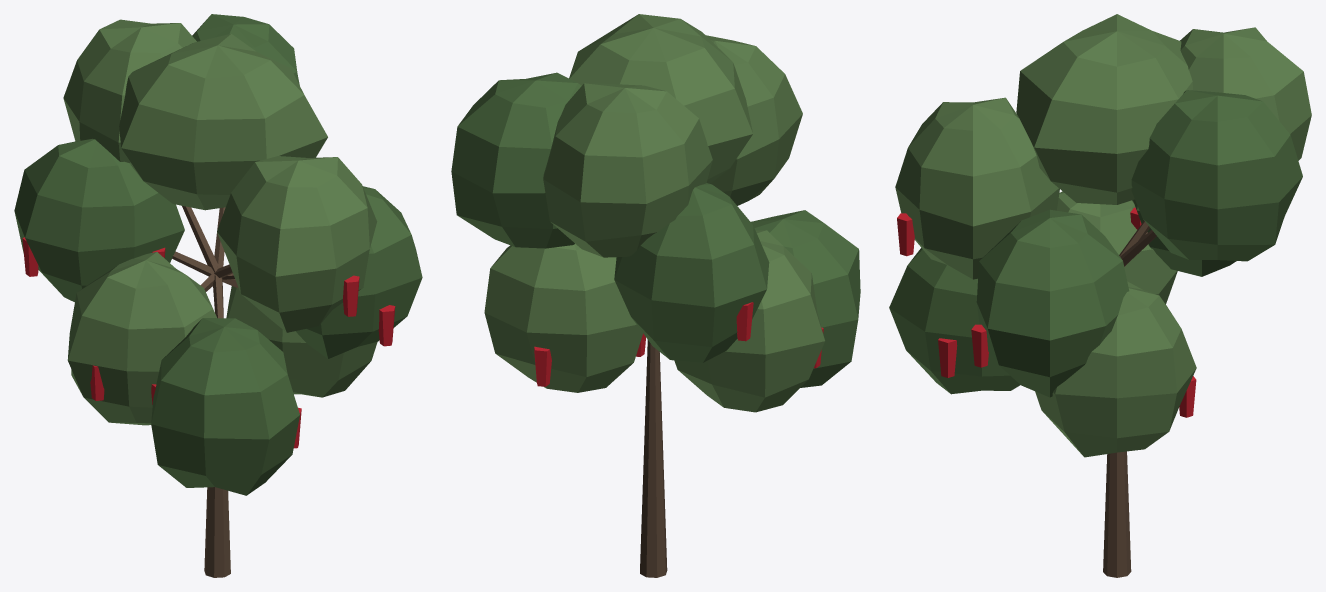
Rendered from tree_bottlebrush_small.glb.
3 renders of one model, left to right at view 1: azimuth 30°, elevation 25°; view 2: azimuth 150°, elevation 25°; view 3: azimuth 270°, elevation 25°, orthographic. The views are drawn at different scales.
Visible parts, largest first — view 1: tree_bottlebrush_small; view 2: tree_bottlebrush_small; view 3: tree_bottlebrush_small.
Part boxes in pixels (x1,y1,x2,y2): tree_bottlebrush_small: [14, 14, 422, 577]; tree_bottlebrush_small: [451, 14, 860, 577]; tree_bottlebrush_small: [889, 14, 1311, 577].
Bounding box in the file's own units: 3 × 4.66 × 3.3.
